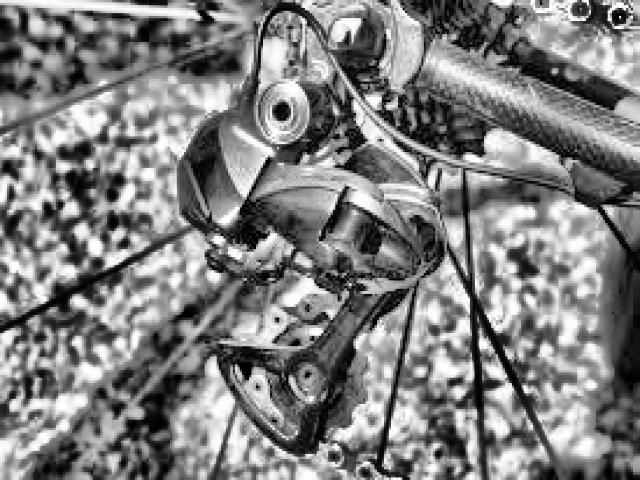rear_derailleur: (172, 64, 453, 454)
